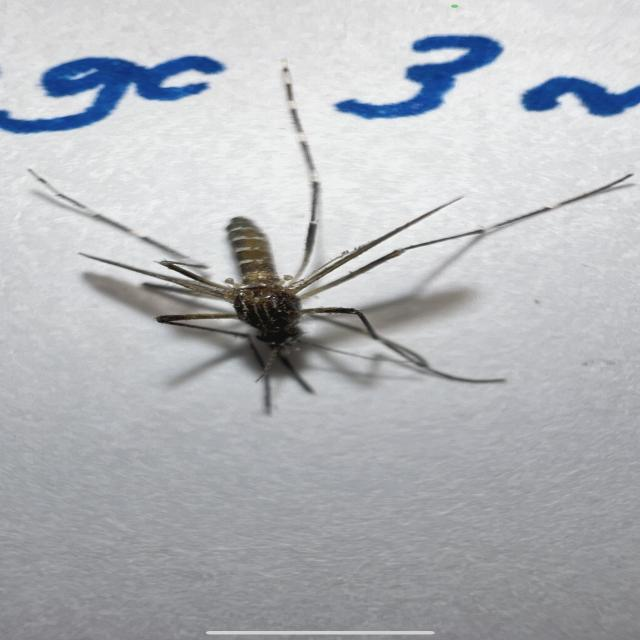aegypti: (18, 106, 602, 422)
